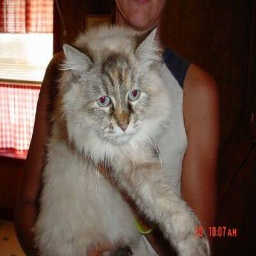cat: (39, 24, 204, 256)
